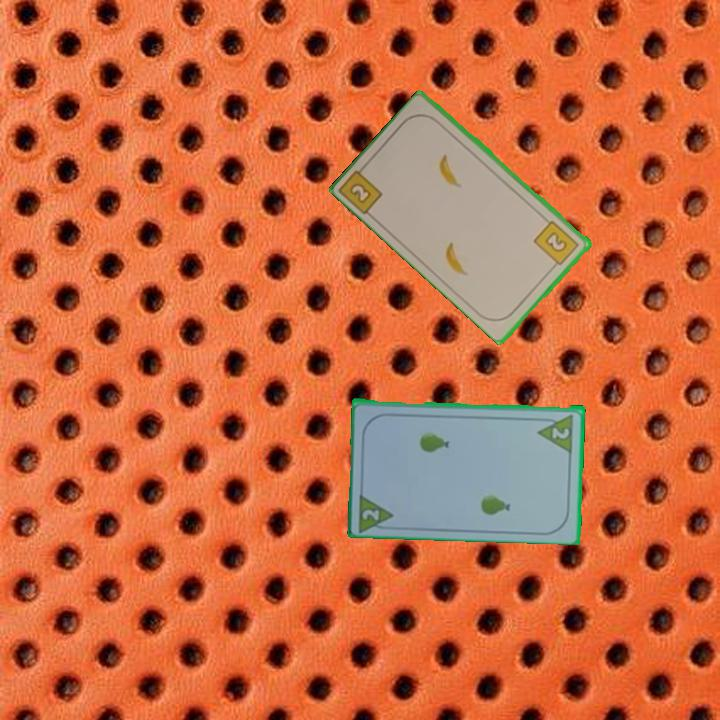2b: (337, 159, 386, 217), (530, 217, 582, 271)
2p: (549, 424, 572, 442), (359, 505, 382, 523)
